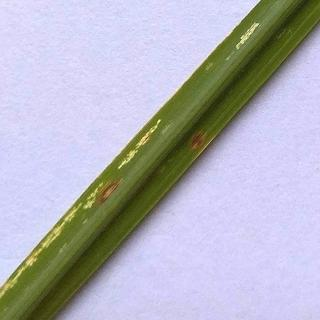Blast: (159, 111, 230, 183), (80, 156, 140, 234)
